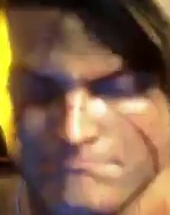kevin: (4, 18, 153, 212)
